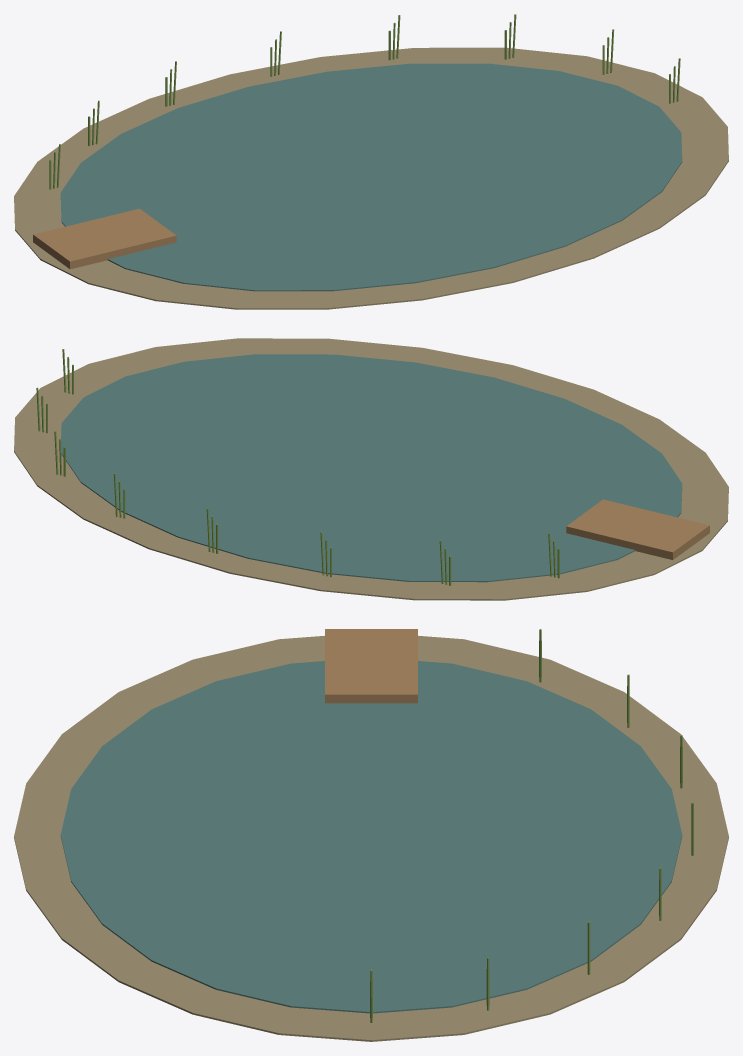
File: pond-normal.glb
The picture shows the model from 3 angles, top to bottom: view 1: azimuth 30°, elevation 25°; view 2: azimuth 150°, elevation 25°; view 3: azimuth 270°, elevation 25°; orthographic projection. The views are drawn at different scales.
Visible parts, largest first — view 1: pond; view 2: pond; view 3: pond.
Part boxes in pixels (bbox=[...]): pond: bbox=[14, 14, 728, 309]; pond: bbox=[14, 338, 728, 600]; pond: bbox=[14, 629, 728, 1041].
Bounding box in the file's own units: 12.42 × 0.8184 × 9.2.
